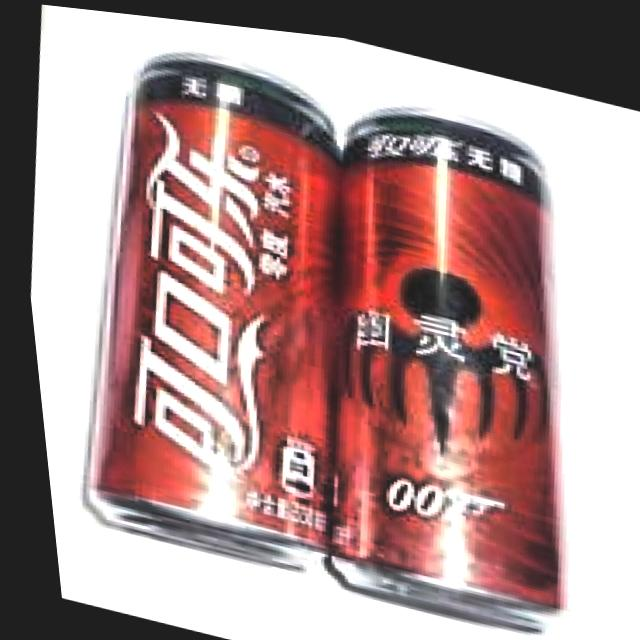Cans: (236, 40, 630, 640), (17, 20, 402, 613)
